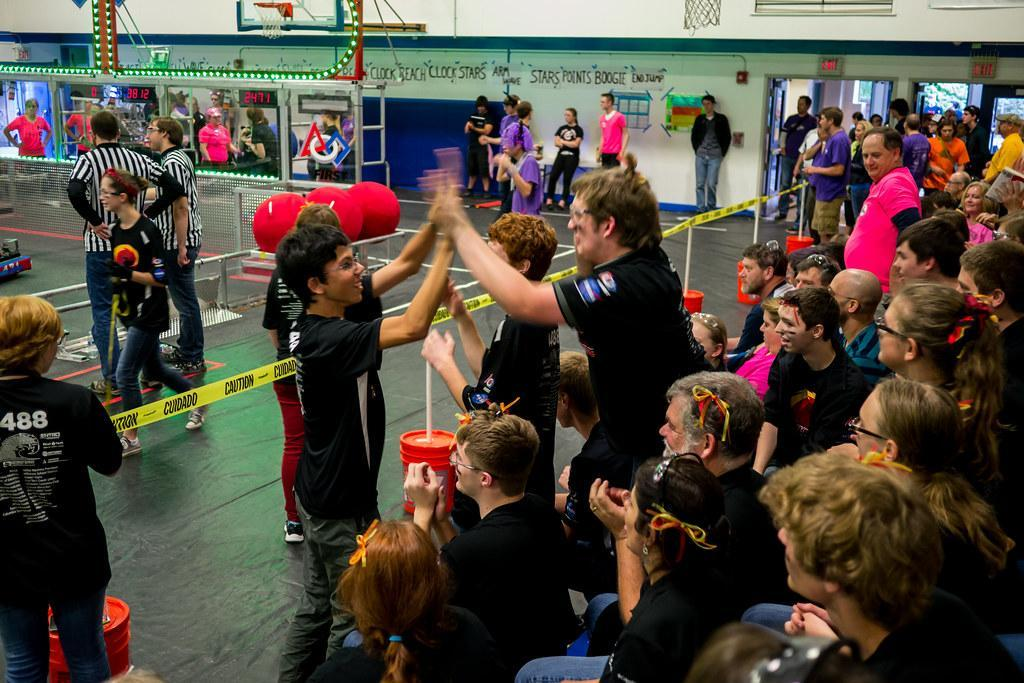robot: (0, 231, 36, 280)
